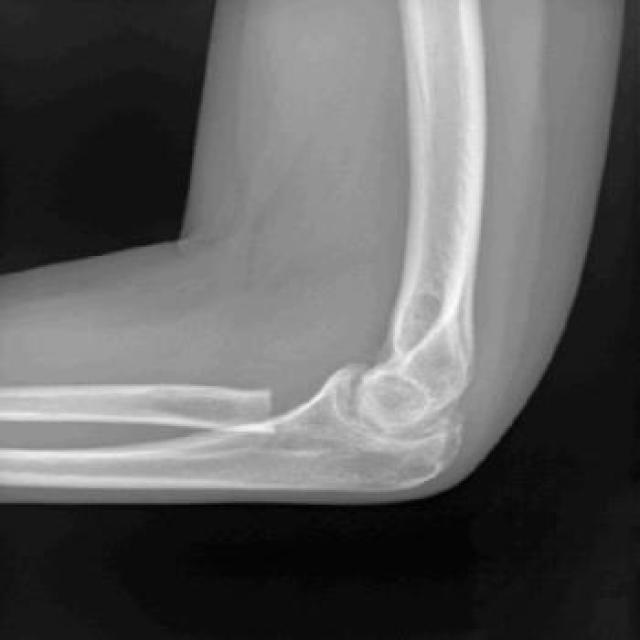fracture: (242, 354, 348, 447)
